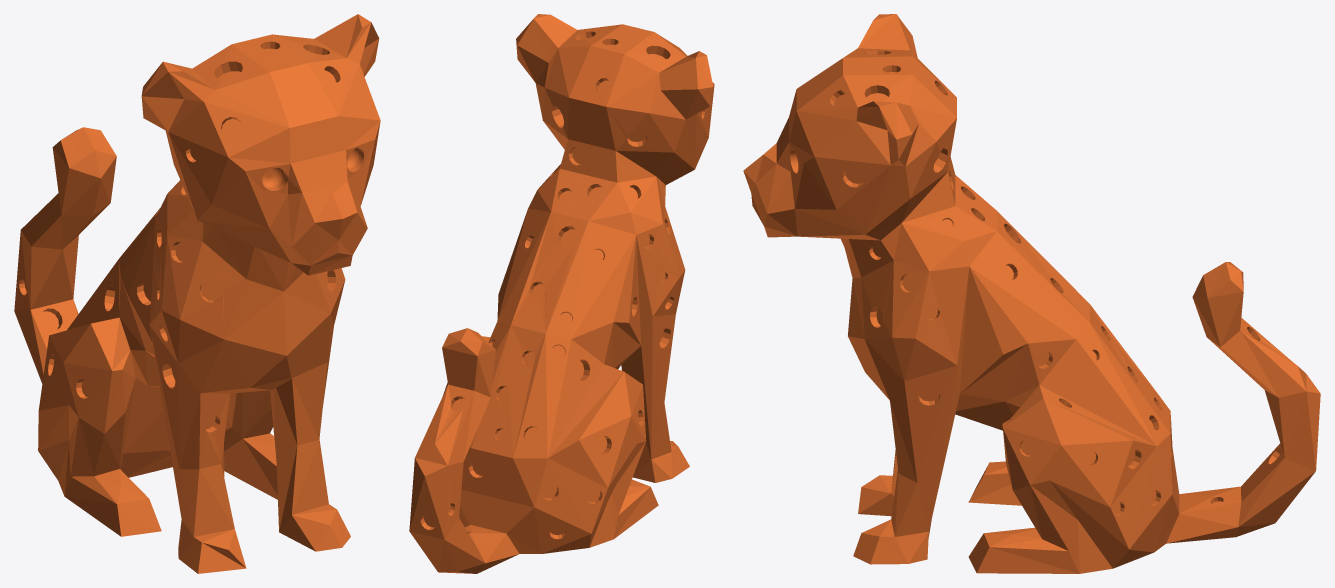
The model's file is cheeta.glb.
The picture shows the model from 3 angles, left to right: view 1: azimuth 30°, elevation 25°; view 2: azimuth 150°, elevation 25°; view 3: azimuth 270°, elevation 25°; orthographic projection. The views are drawn at different scales.
Parts seen in each view (by area): view 1: obj_3_Cheetah; view 2: obj_3_Cheetah; view 3: obj_3_Cheetah.
Part boxes in pixels (left/top/right/bottom): obj_3_Cheetah: left=14, top=14, right=380, bottom=573; obj_3_Cheetah: left=409, top=14, right=714, bottom=573; obj_3_Cheetah: left=743, top=14, right=1320, bottom=573.
Size of the model in its own units: 17.16 by 35 by 38.85.
